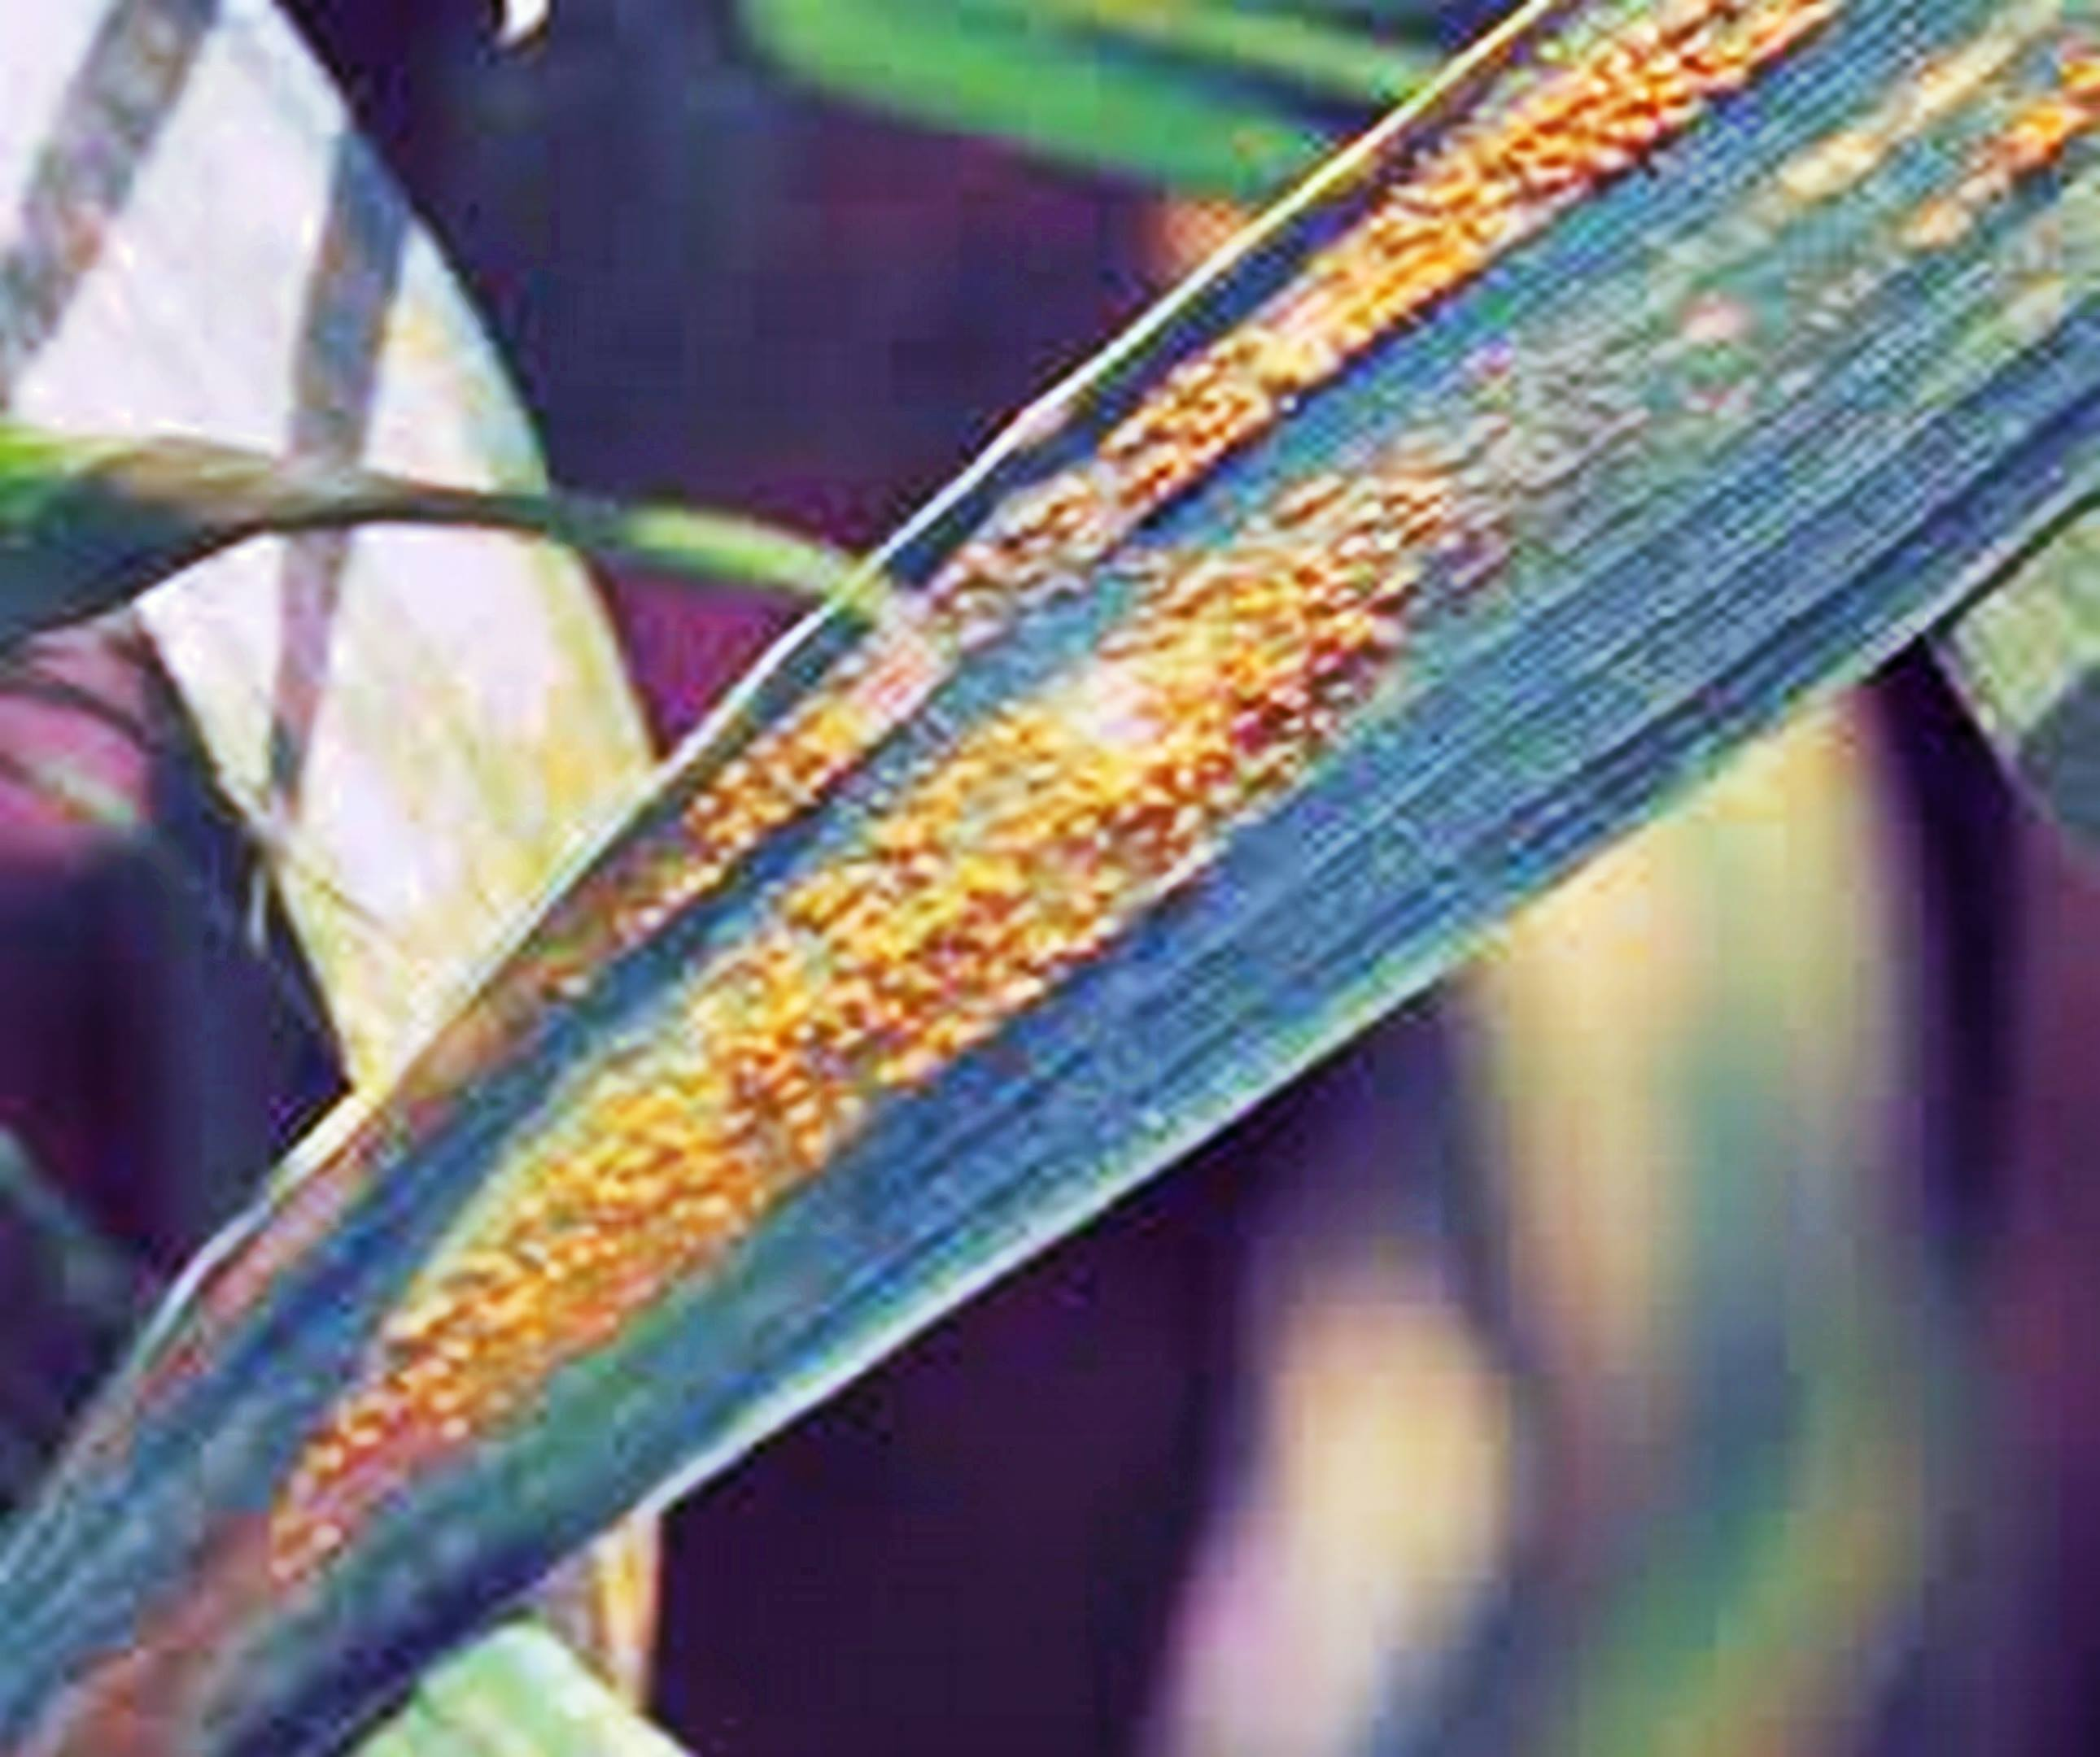Leaf Rust: (295, 78, 1636, 1419)
